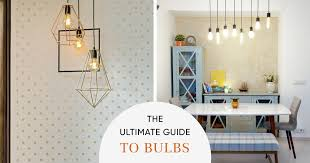bulb: (86, 54, 104, 78), (61, 9, 78, 31), (71, 32, 88, 52), (235, 31, 248, 47), (211, 29, 222, 47), (247, 29, 260, 44), (266, 15, 277, 32), (253, 18, 263, 34), (219, 27, 230, 41), (204, 30, 215, 40), (230, 27, 239, 39)
